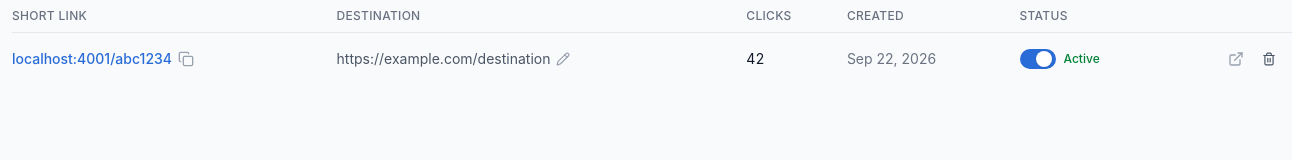
LinksTable › editing the destination url › shows a conflict from the api as an inline error, staying in edit mode
The width and height of the screenshot is (1292, 160).
Click the button named "Edit destination URL".
click(564, 59)  # box left=556, top=52, right=570, bottom=66
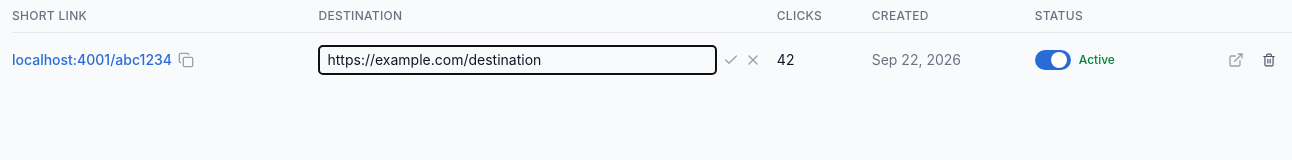
Replace the text in the field named "Destination URL" with "https://example.com/new" at (518,60), box left=318, top=45, right=717, bottom=75
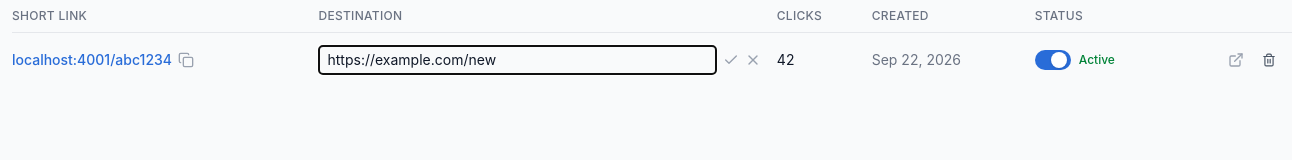
Click the button named "Save destination URL".
click(731, 60)  # box left=723, top=52, right=739, bottom=68
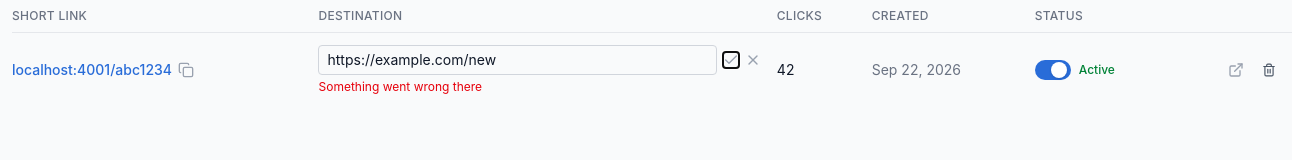
expect the text "Something went wrong there" is shown: met, box left=318, top=79, right=482, bottom=94
